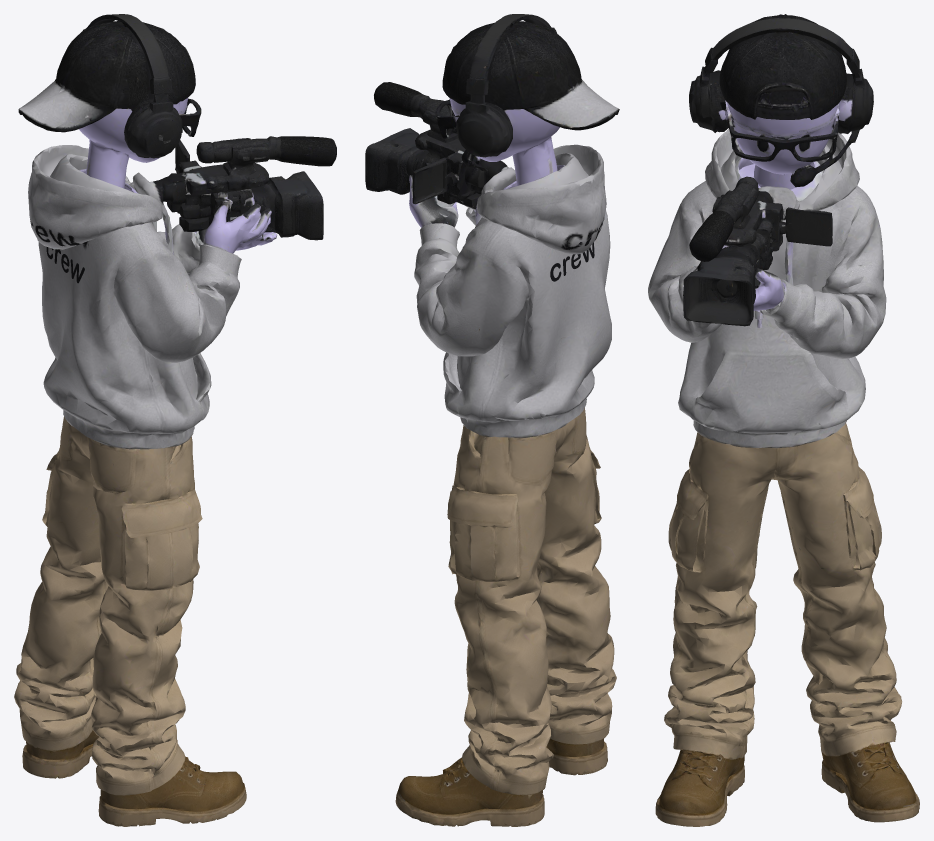
File: HandheldCinema.obj
3 renders of one model, left to right at view 1: azimuth 30°, elevation 25°; view 2: azimuth 150°, elevation 25°; view 3: azimuth 270°, elevation 25°, orthographic. The views are drawn at different scales.
Visible parts, largest first — view 1: Operator; view 2: Operator; view 3: Operator.
Boxes of the visible parts, <box> form: Operator: <box>14,14,336,826</box>; Operator: <box>365,14,619,826</box>; Operator: <box>648,14,919,826</box>.
Size of the model in its own units: 66.54 by 175 by 55.35.
Materials: 2 (2 with a texture image).
